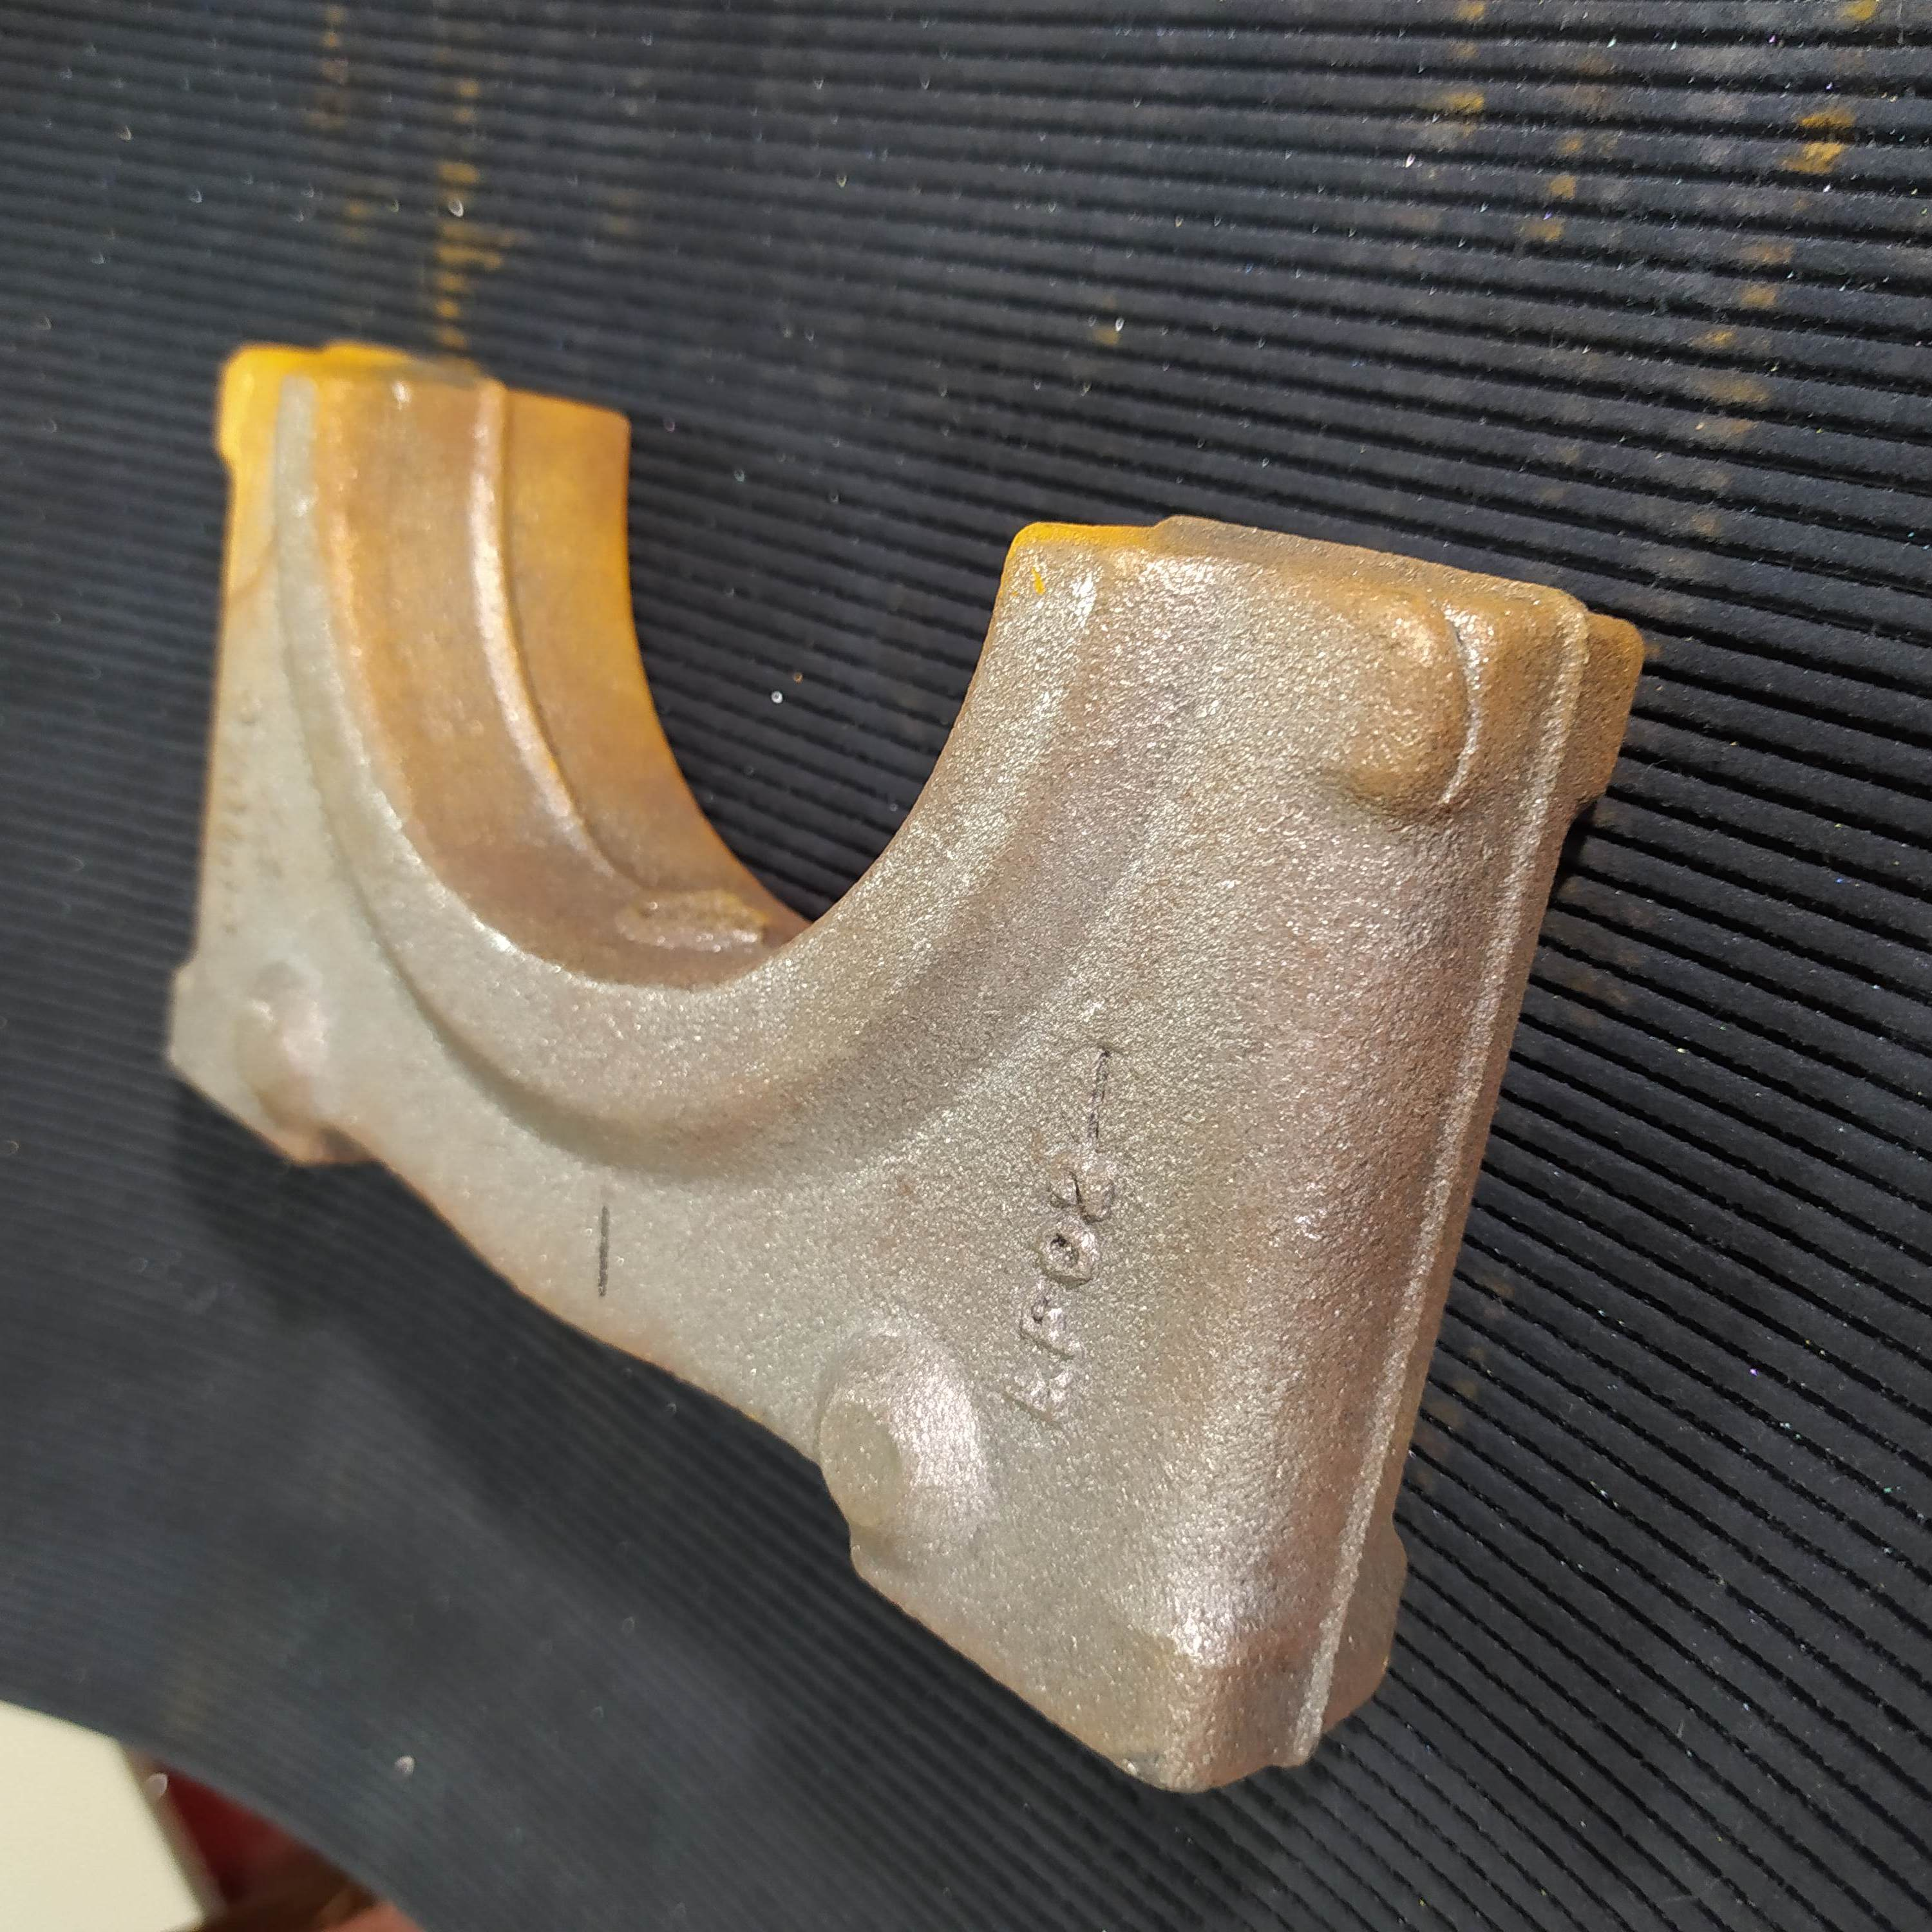rechupe: (1438, 602, 1500, 819), (1120, 1753, 1162, 1780)
